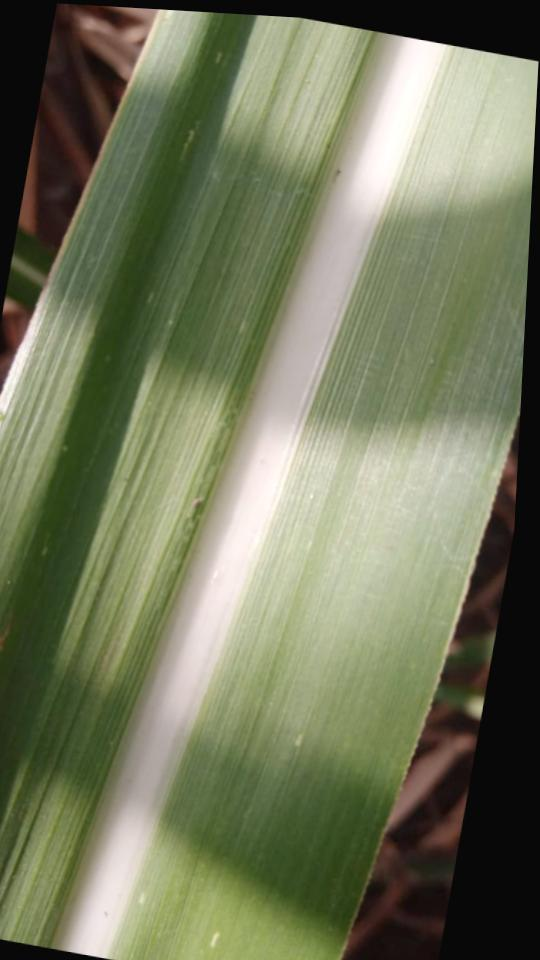Healthy: (0, 10, 538, 960)
